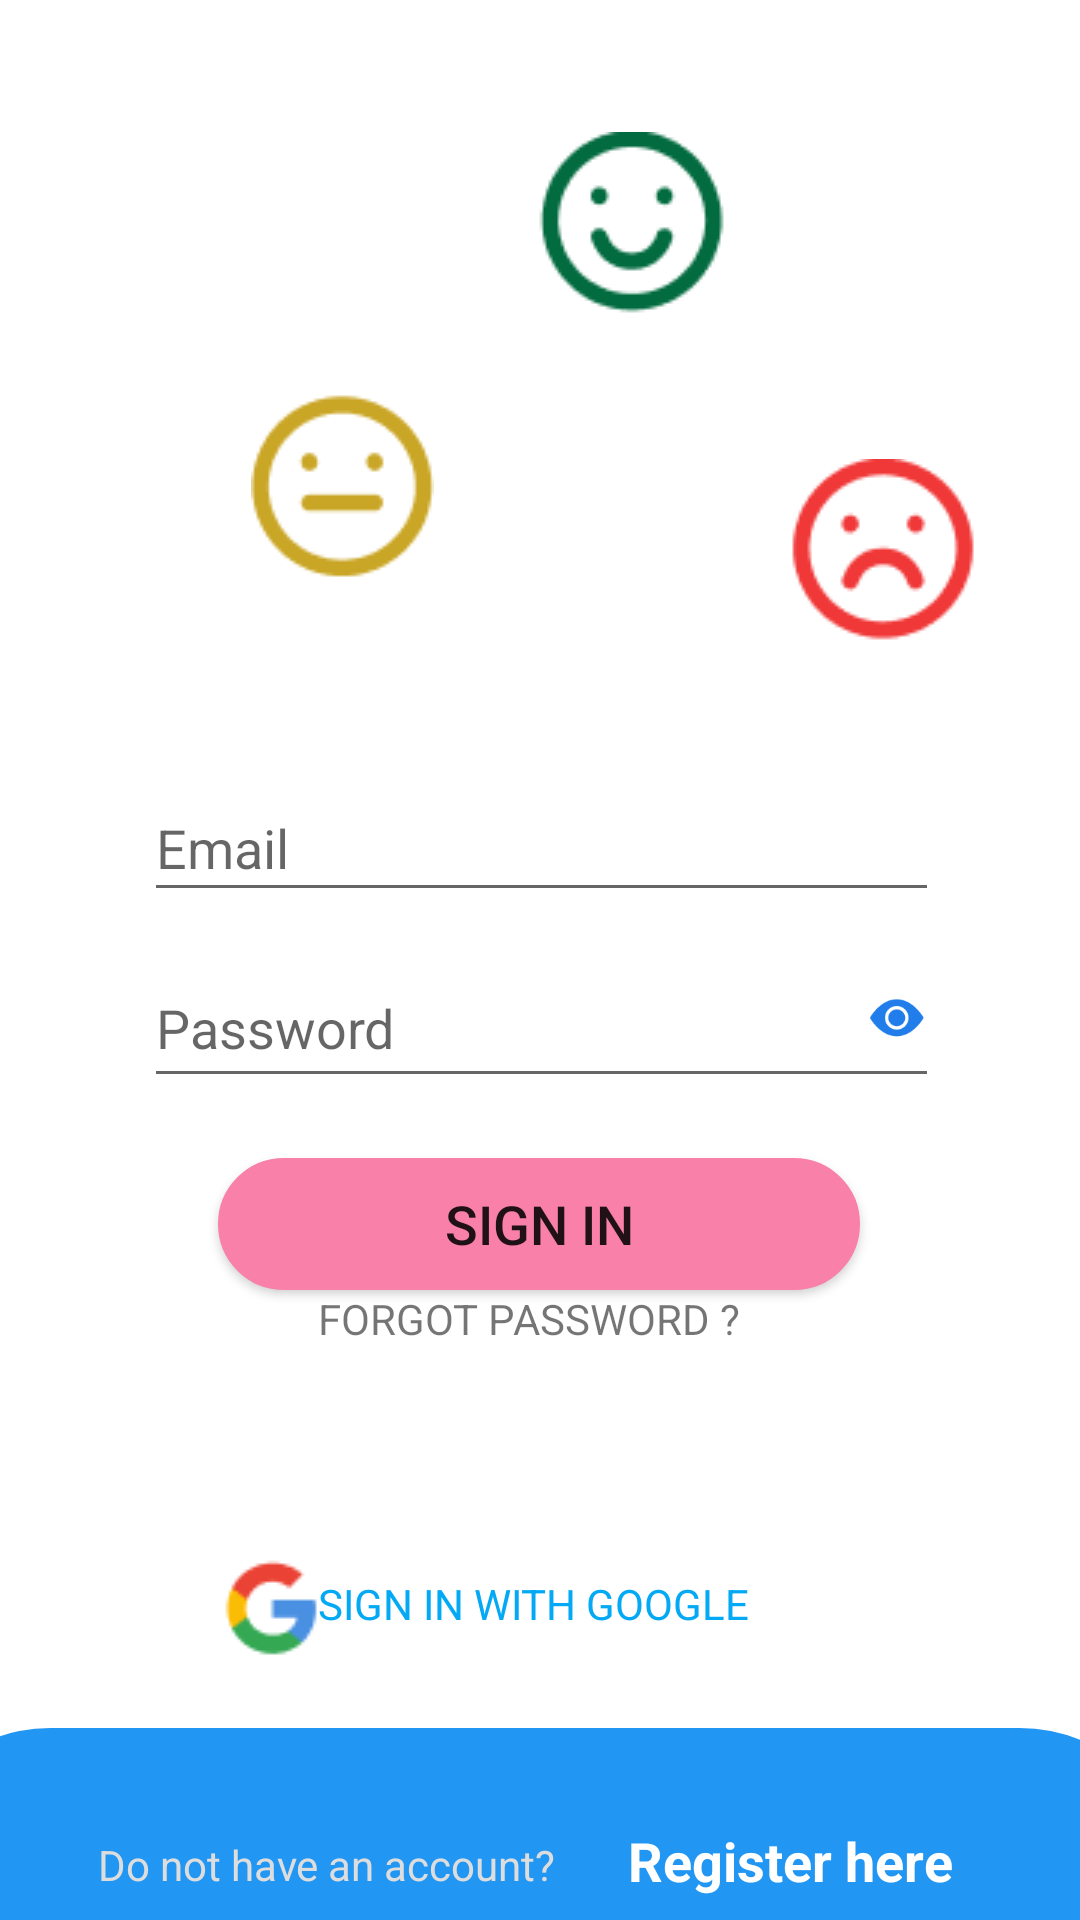

Locate icon controls on the screen. Image size 1080px×1920px, boxes as detection(x1, y1, x2, y2).
mat dooo: detection(792, 459, 974, 640)
mat vanggggg: detection(251, 395, 434, 577)
mat xanhhhhh: detection(540, 132, 724, 313)
